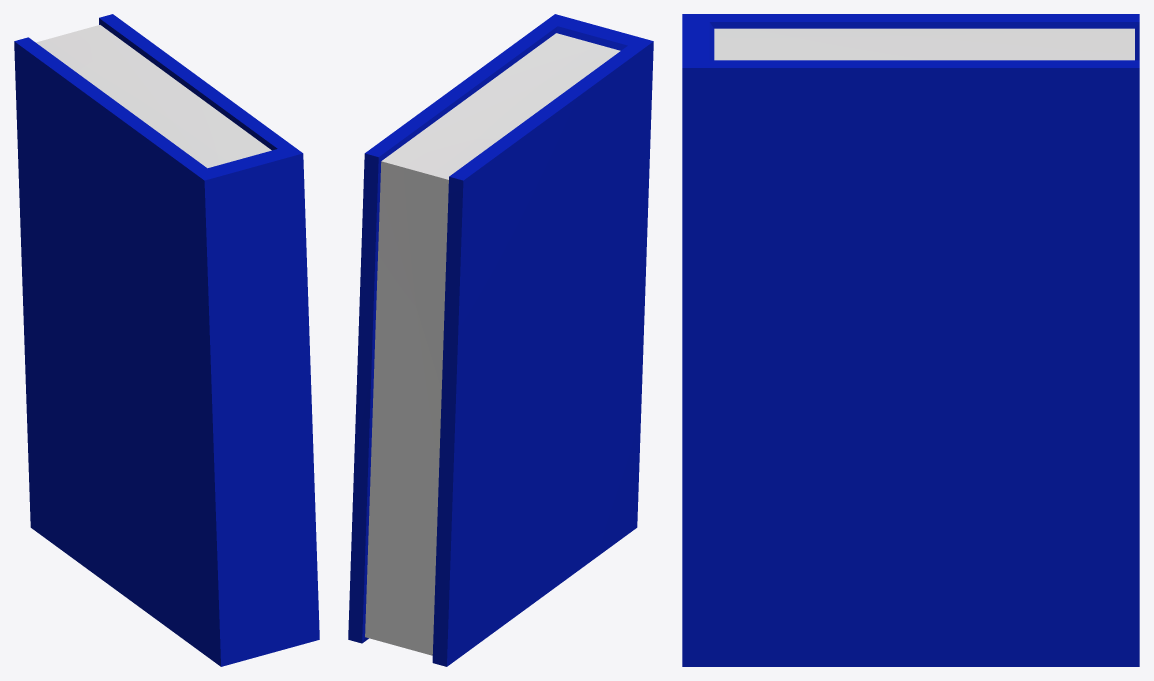
The model's file is Livro2.fbx.
The picture shows the model from 3 angles, left to right: view 1: azimuth 30°, elevation 25°; view 2: azimuth 150°, elevation 25°; view 3: azimuth 270°, elevation 25°; orthographic projection. The views are drawn at different scales.
Parts seen in each view (by area): view 1: Bookshelf.009; view 2: Bookshelf.009; view 3: Bookshelf.009.
Part boxes in pixels (x1,y1,x2,y2): Bookshelf.009: (14, 14, 319, 666); Bookshelf.009: (348, 14, 653, 666); Bookshelf.009: (682, 14, 1139, 666).
Size of the model in its own units: 7.9 by 32.34 by 22.61.
